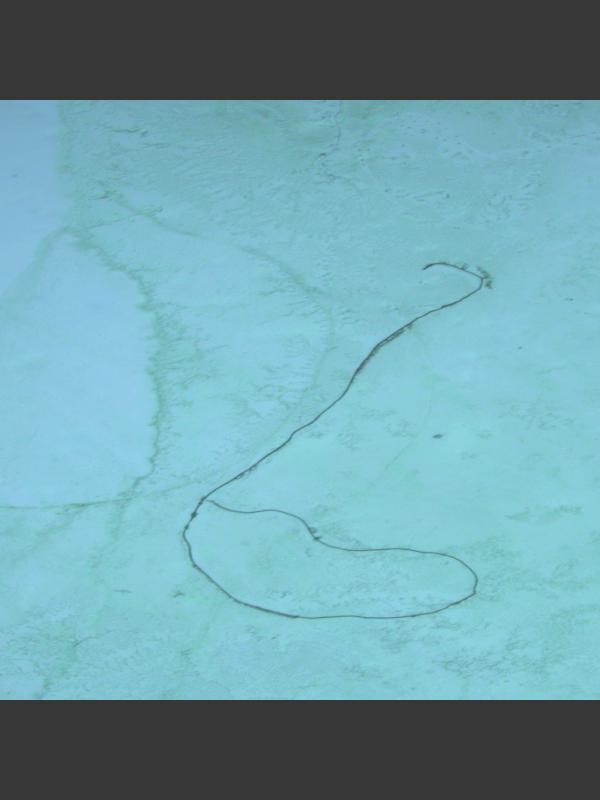microplastic: (180, 260, 495, 621)
